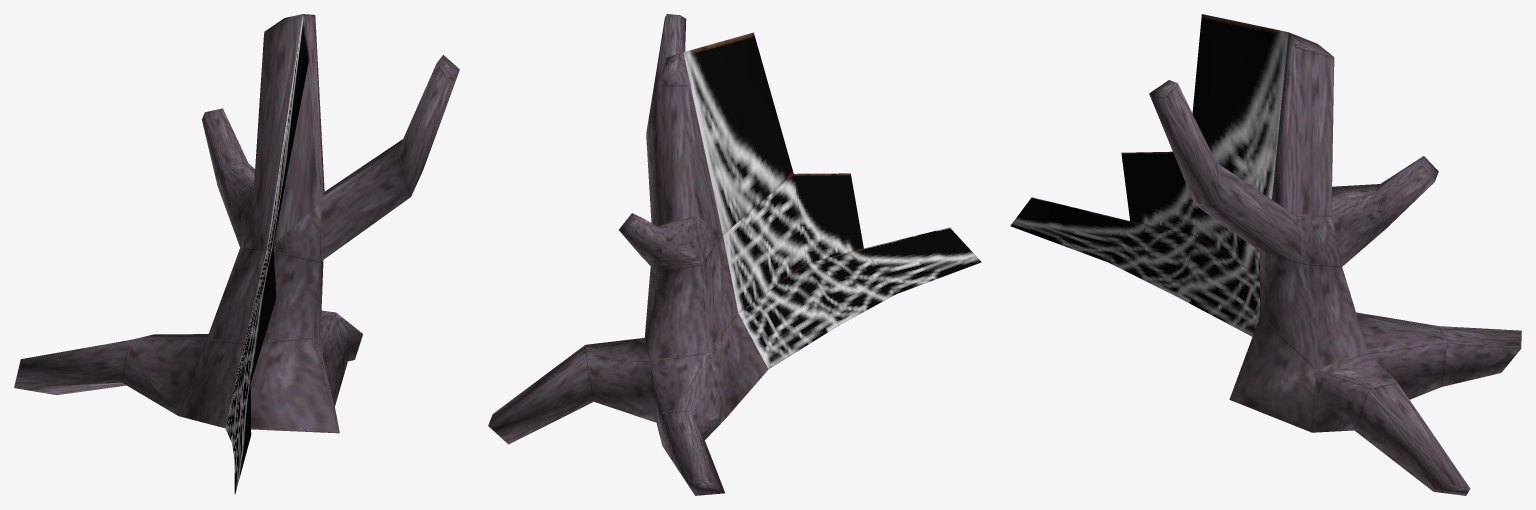
3 views of the same model, side by side, from view 1: azimuth 30°, elevation 25°; view 2: azimuth 150°, elevation 25°; view 3: azimuth 270°, elevation 25° (orthographic). The views are drawn at different scales.
Parts seen in each view (by area): view 1: T1L8M006_7; view 2: T1L8M006_7; view 3: T1L8M006_7.
Part boxes in pixels (x1,y1,x2,y2): T1L8M006_7: (14,14,459,494); T1L8M006_7: (488,14,981,495); T1L8M006_7: (1010,14,1521,495).
Size of the model in its own units: 3.44 by 3.98 by 4.5.
